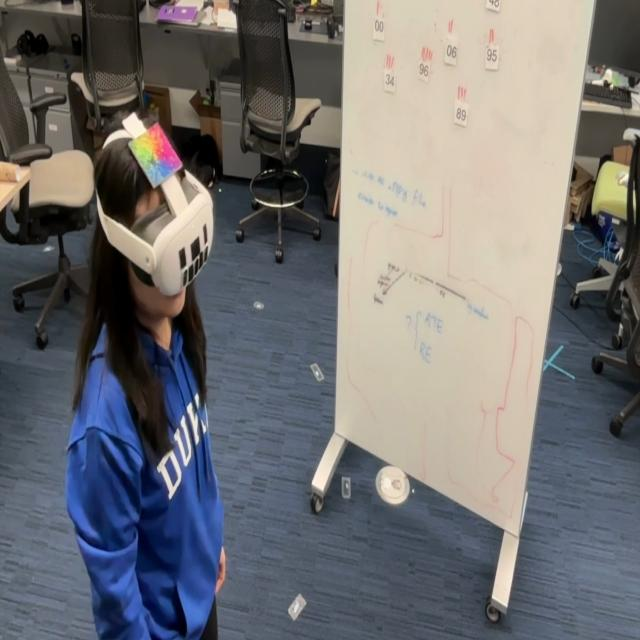Marker: (136, 130, 185, 190)
